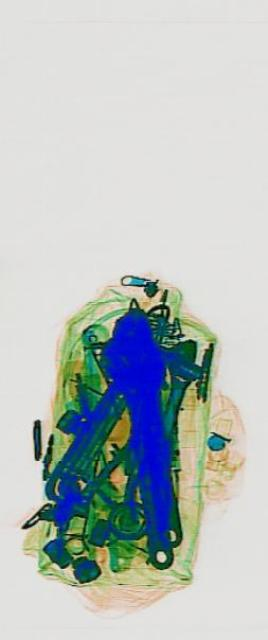Wrench: (148, 320, 203, 462)
